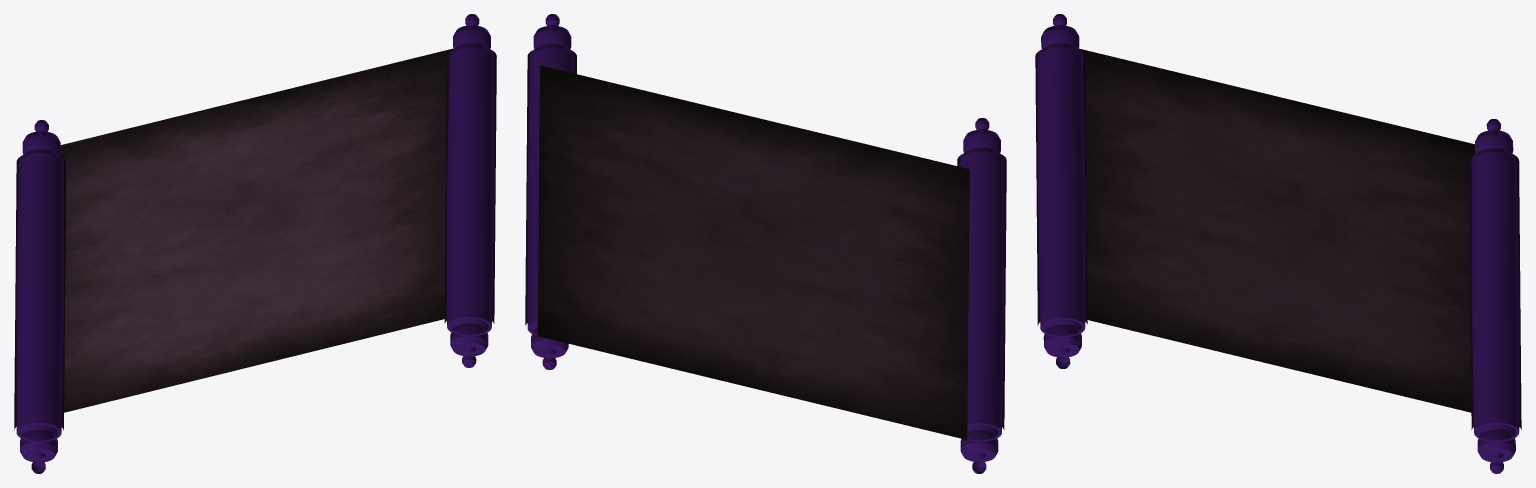
File: SCROLL.glb
The picture shows the model from 3 angles, left to right: view 1: azimuth 30°, elevation 25°; view 2: azimuth 150°, elevation 25°; view 3: azimuth 330°, elevation 25°; orthographic projection.
Visible parts, largest first — view 1: Object_2, Object_3, Object_5, Object_4; view 2: Object_2, Object_3, Object_5, Object_4; view 3: Object_2, Object_3, Object_5, Object_4.
Part boxes in pixels (x1,y1,x2,y2): Object_2: (60, 48, 453, 412); Object_3: (16, 14, 494, 455); Object_5: (14, 49, 496, 430); Object_4: (22, 448, 54, 473); Object_2: (537, 65, 969, 439); Object_3: (527, 14, 1004, 455); Object_5: (525, 49, 1006, 429); Object_4: (963, 449, 995, 473); Object_2: (1079, 48, 1475, 412); Object_3: (1037, 14, 1519, 473); Object_5: (1035, 49, 1521, 429); Object_4: (1046, 343, 1079, 368).
Size of the model in its own units: 11 by 7.81 by 1.14.
3 materials, 1 textured.
